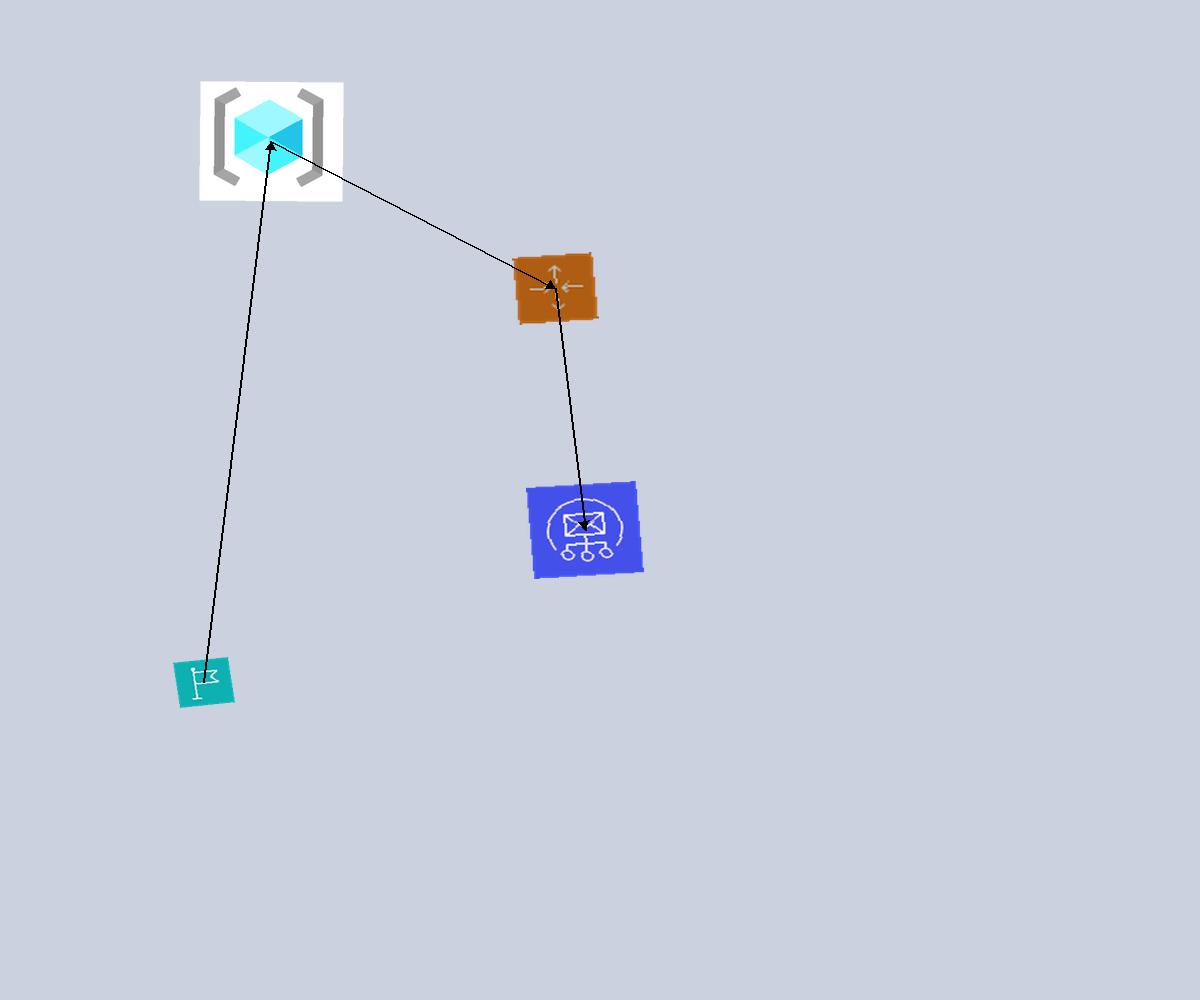AWS-Region: (173, 657, 235, 708)
AWS-Scaling-group: (512, 252, 599, 325)
AWS-Simple-Email-Service: (526, 481, 644, 579)
Azure_resource_group: (199, 81, 344, 202)
